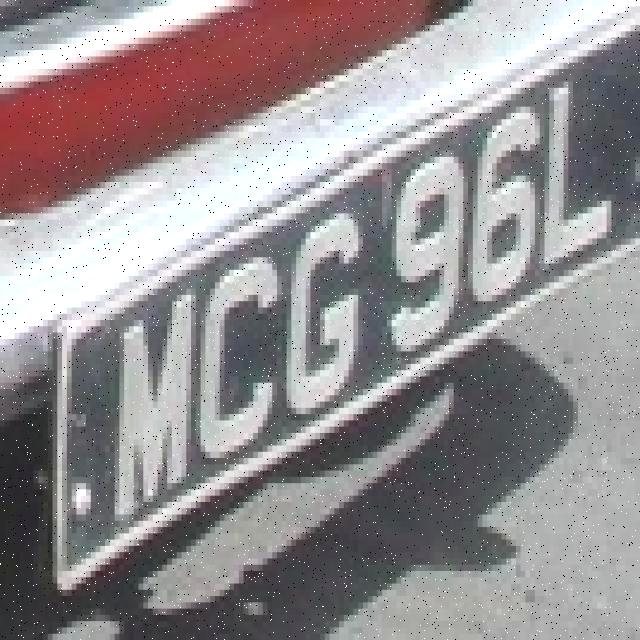licenseplate: (56, 21, 640, 594)
